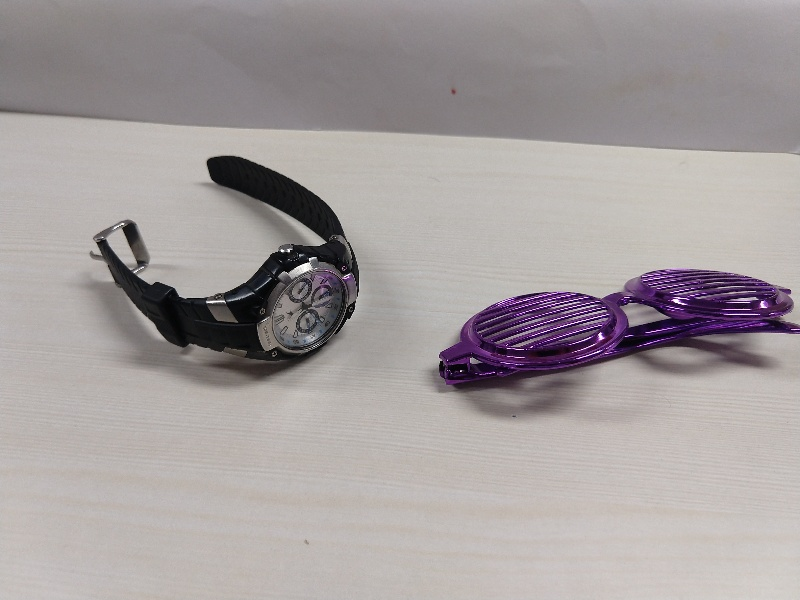shades: (437, 256, 799, 391)
watch: (83, 150, 371, 368)
